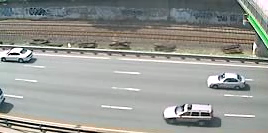car: (161, 101, 217, 130), (206, 70, 249, 93), (1, 45, 35, 64)
